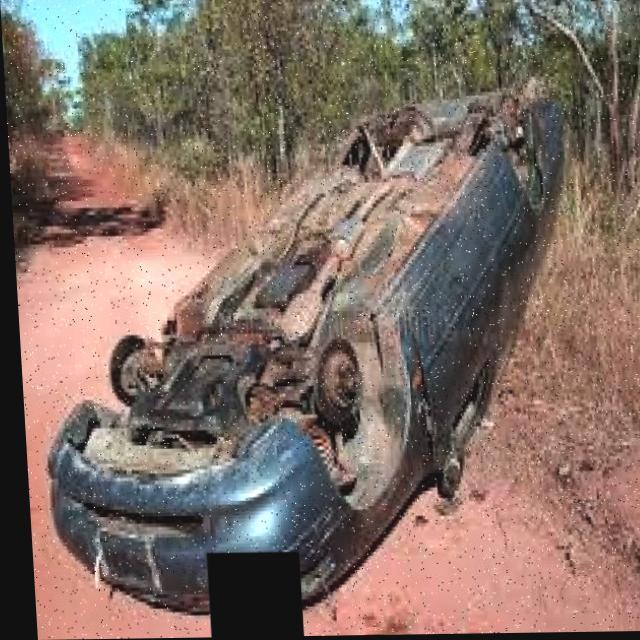single accident: (23, 42, 625, 640)
